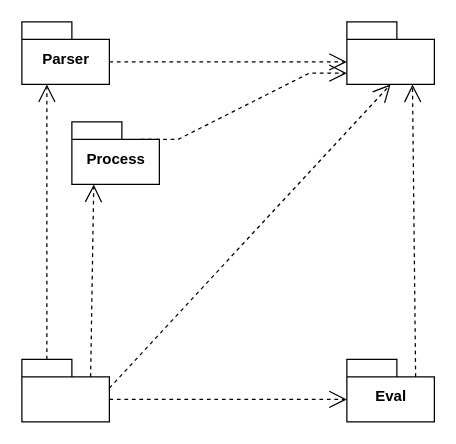
Image size: 456x444. Some labels were removed from this diagram. Here are the shapes that lost their labels. From the top down, the centre of each, then its label:
At [390,52]: "Ast".
At [65,390]: "Compiler".
